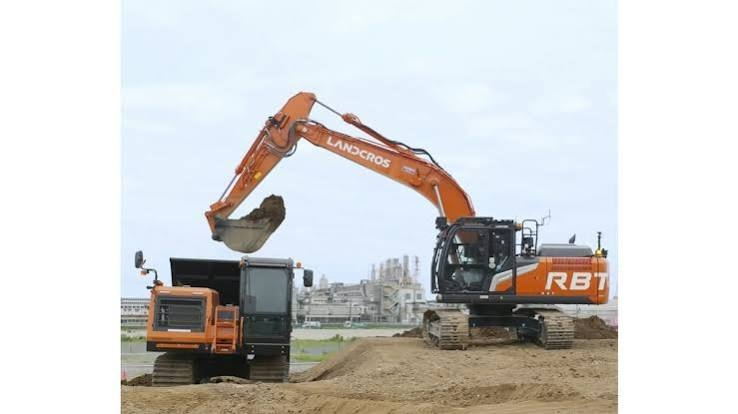excavator: (202, 86, 626, 349)
truck: (138, 238, 317, 387)
